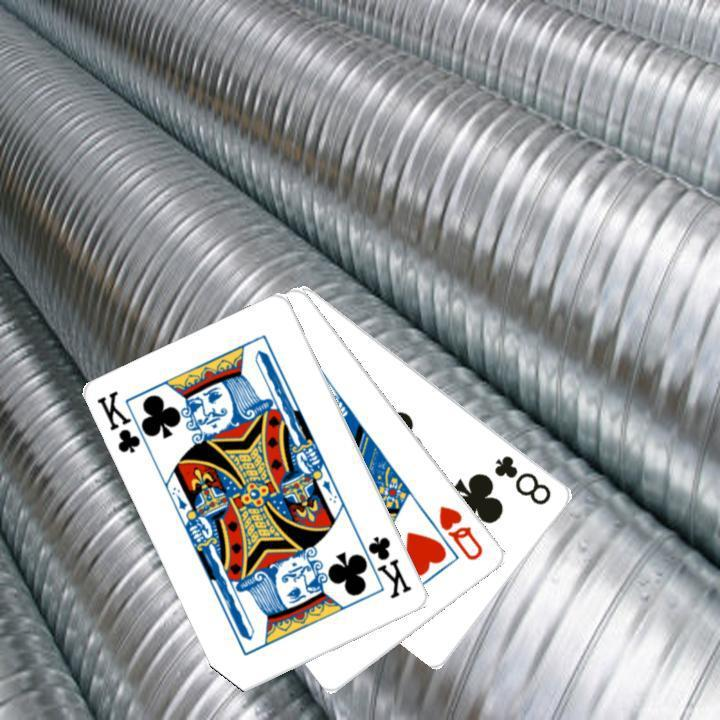8: (490, 450, 554, 507)
K: (93, 387, 155, 456), (353, 532, 414, 601)
Q: (434, 501, 486, 563)
